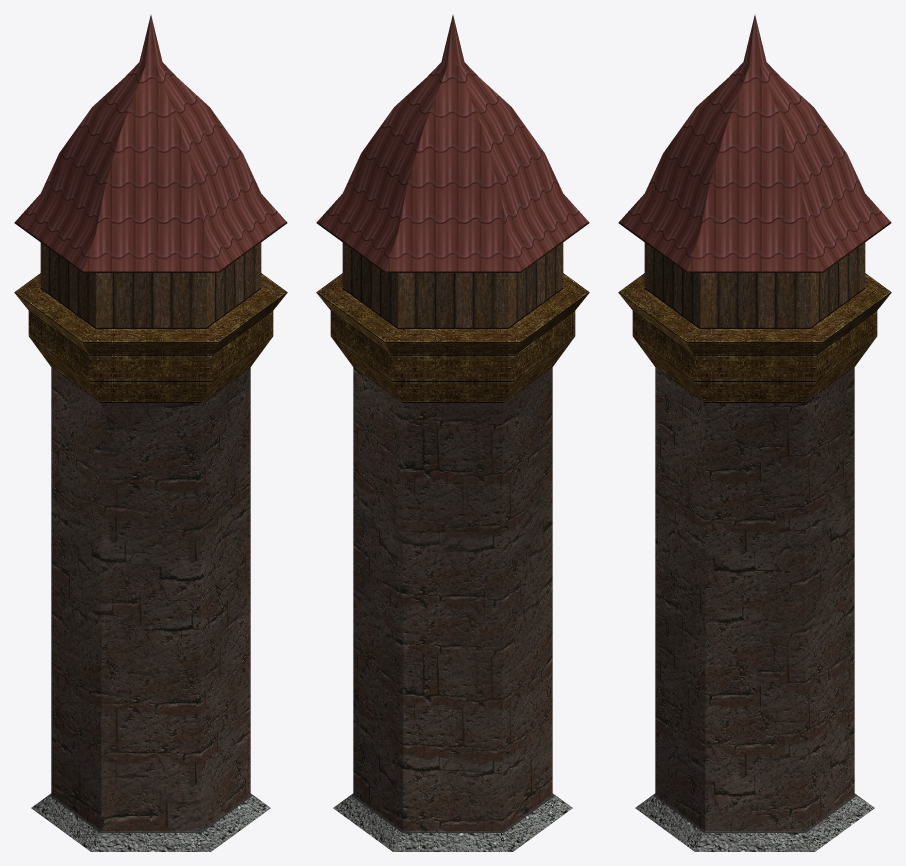
The model's file is mage_tower.glb.
The picture shows the model from 3 angles, left to right: view 1: azimuth 30°, elevation 25°; view 2: azimuth 150°, elevation 25°; view 3: azimuth 270°, elevation 25°; orthographic projection.
Visible parts, largest first — view 1: Circle; view 2: Circle; view 3: Circle.
Part boxes in pixels (left/top/right/bottom): Circle: left=14, top=15, right=287, bottom=851; Circle: left=316, top=15, right=589, bottom=851; Circle: left=618, top=15, right=891, bottom=851.
Bounding box in the file's own units: 2.21 × 8.15 × 2.55.
Materials: 1 (1 with a texture image).
